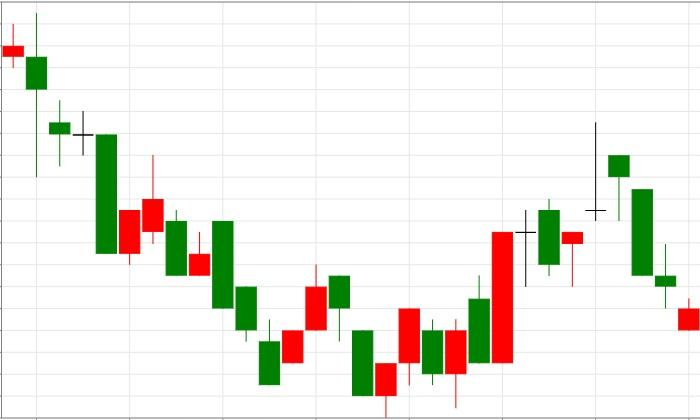bullish_engulfing_rise: (2, 13, 234, 309)
hanging_man_fall: (445, 123, 631, 407)
